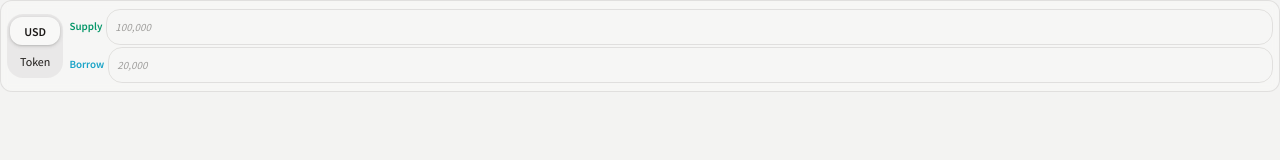
Test case: ScenarioControls › Mobile › updates Supply input and shows clear button
This screenshot has width=1280, height=160.
In the field named "Supply amount": (690, 27) [106,9,1273,45], type "1000"
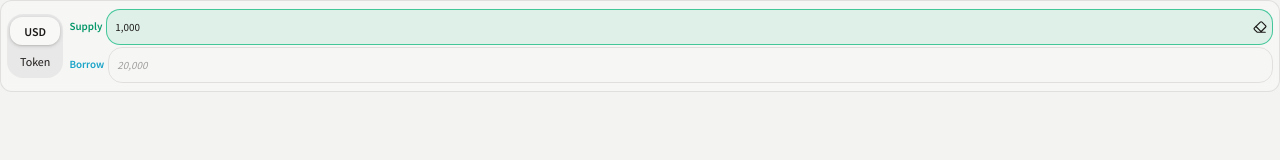
Expected: the field named "Supply amount" holds "1,000", [106,9,1273,45]
Expected: the button named "Clear supply amount" is shown, [1251,18,1269,36]
